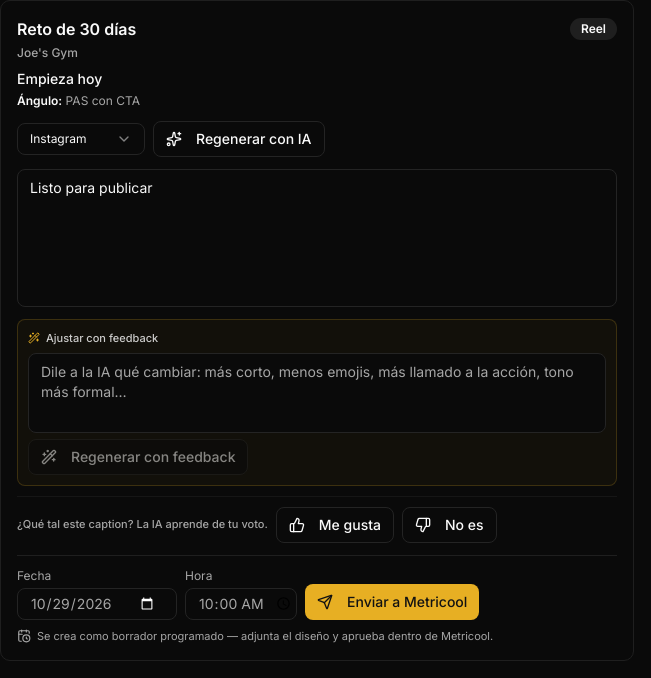
Test case: ApprovedIdeasCaptions › disables send and warns when the chosen date is in the past
Check: the button "Enviar a Metricool" is enabled, box [305, 584, 479, 620]
In the date field labelled "Fecha": (97, 604) [17, 588, 177, 620], type "2020-01-01"
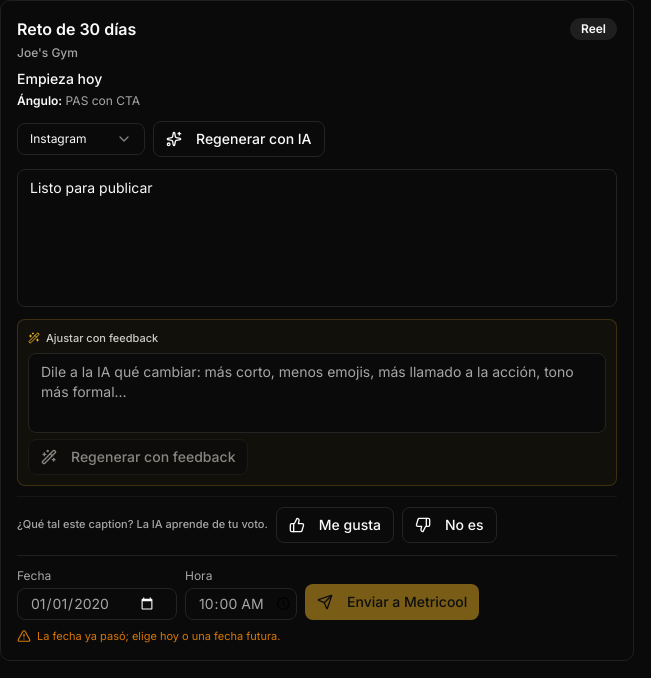
Check: the button "Enviar a Metricool" is disabled, box [305, 584, 479, 620]
Check: the text "La fecha ya pasó; elige hoy o una fecha futura." is shown, box [17, 628, 280, 643]
